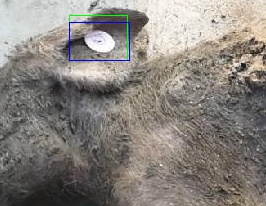text: (69, 15, 127, 60)
